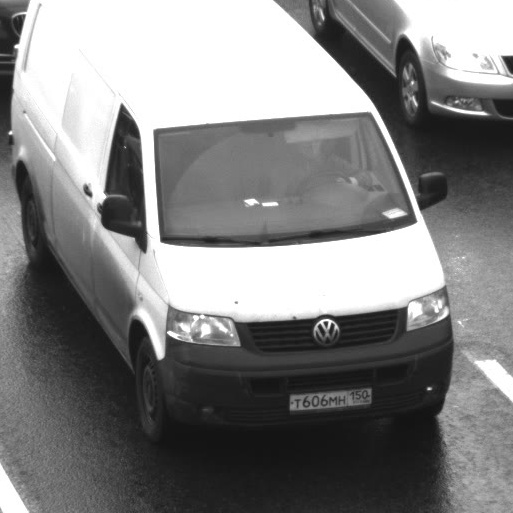plate: (279, 376, 381, 418)
